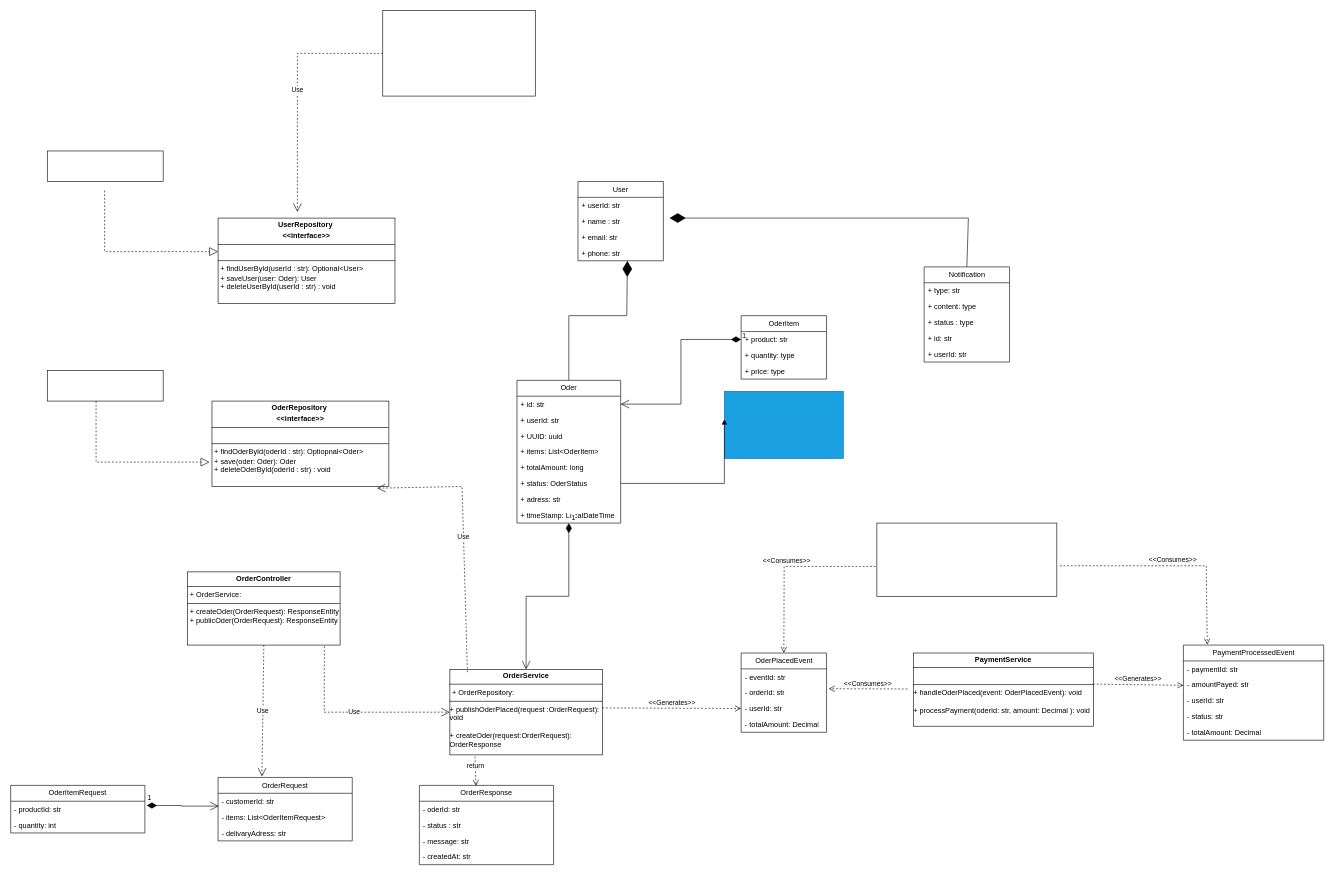
Some shapes in this 1335 by 877 pixel diagram are drawn without their labels. The centre of each missing label's shape, as x and y in pixels:
"NotificationService + sendNotification(event: Object): void" belongs at point (966, 559).
"Status enum_values : PENDING, PAYMENT_CONFIRMED, PREPARING, SHIPPED, CANCELLED" belongs at point (783, 424).
"UserService + UserRepository:" belongs at point (458, 53).
"«interface» MongoDbRepository<Oder,str>" belongs at point (105, 385).
"«interface» MongoDbRepository<User,str>" belongs at point (105, 165).
